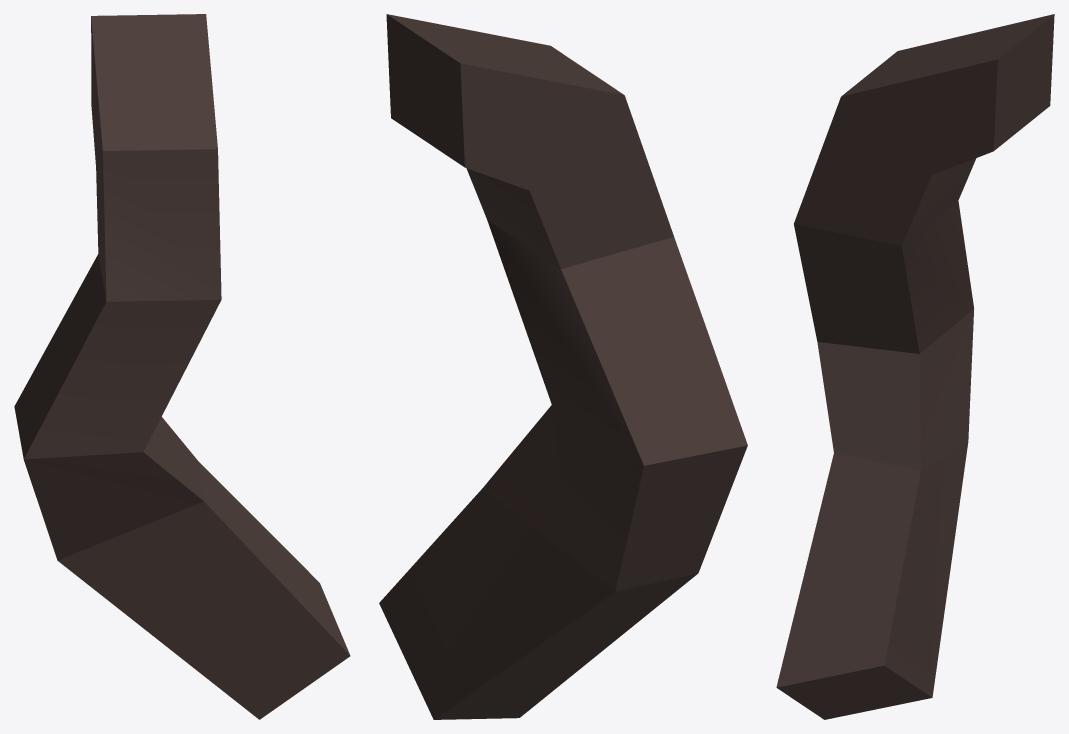
File: SM_Prop_Chair_01.005.obj
3 views of the same model, side by side, from view 1: azimuth 30°, elevation 25°; view 2: azimuth 150°, elevation 25°; view 3: azimuth 270°, elevation 25° (orthographic). The views are drawn at different scales.
Visible parts, largest first — view 1: SM_Prop_Chair_01.005_0; view 2: SM_Prop_Chair_01.005_0; view 3: SM_Prop_Chair_01.005_0.
Boxes of the visible parts, x1=… form: SM_Prop_Chair_01.005_0: x1=14, y1=14, x2=350, y2=719; SM_Prop_Chair_01.005_0: x1=379, y1=14, x2=747, y2=719; SM_Prop_Chair_01.005_0: x1=776, y1=14, x2=1054, y2=719.
Bounding box in the file's own units: 0.1523 × 0.3083 × 0.1151.
1 material, 1 textured.
